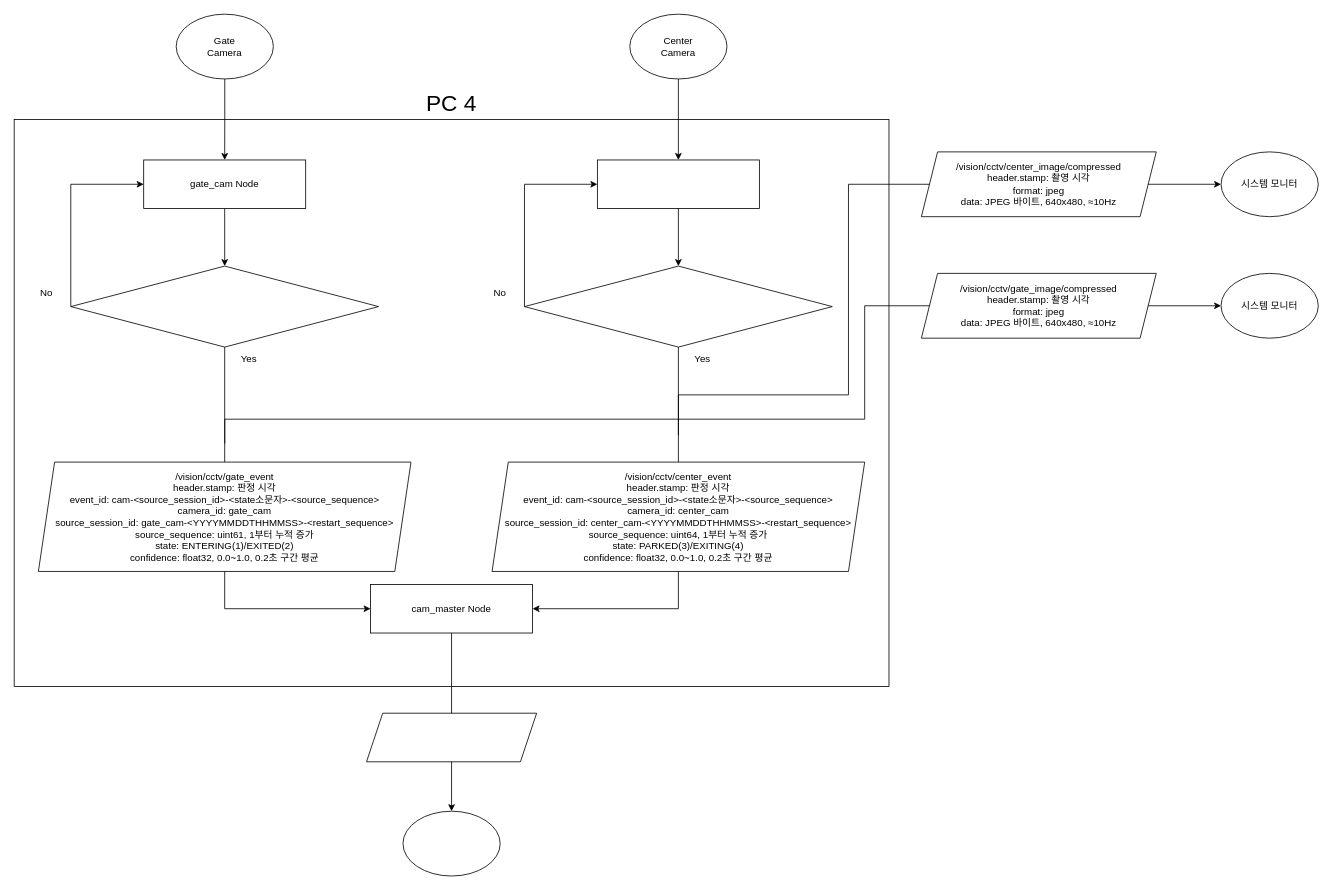
This 1332x890 diagram has some shape labels left out. Each missing label, with the centre of its shape:
"/vision/cctv/patrol_allowed data: true / false" goes at [451,737].
"Center_cam Node" goes at [678,184].
"관제 노드" goes at [451,843].
"주정차를 판단했는가? PARKED : 주차구역 진입후 5초 이상 정지 EXITING : 주차구역에서 차량이 나옴" goes at [678,306].
"차가 지나갔는가? ENTERING : 출입구 -> 주차장 EXITED : 주차장 출입구" goes at [224,306].
